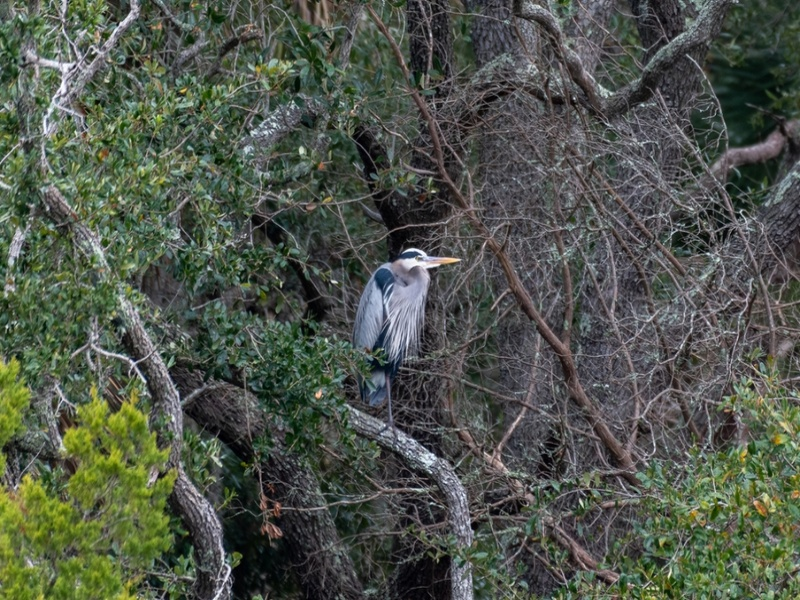heron: (345, 241, 463, 411)
